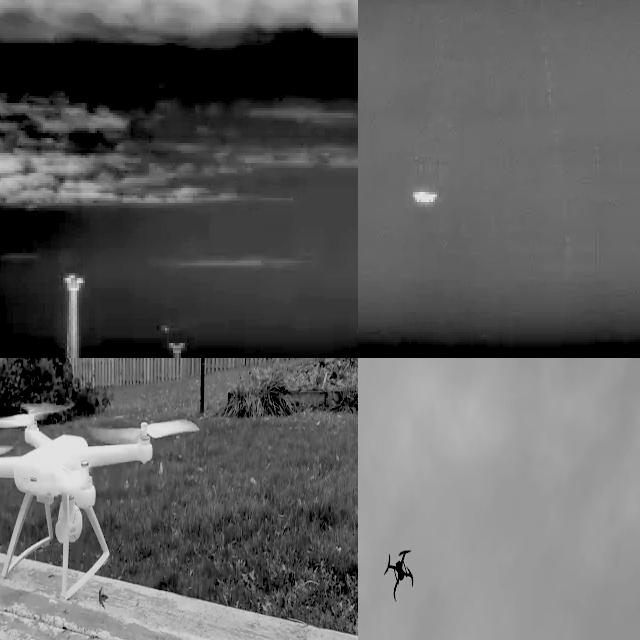0: (155, 318, 181, 343)
1: (405, 183, 449, 216)
drone: (0, 394, 189, 598), (381, 544, 418, 602)
